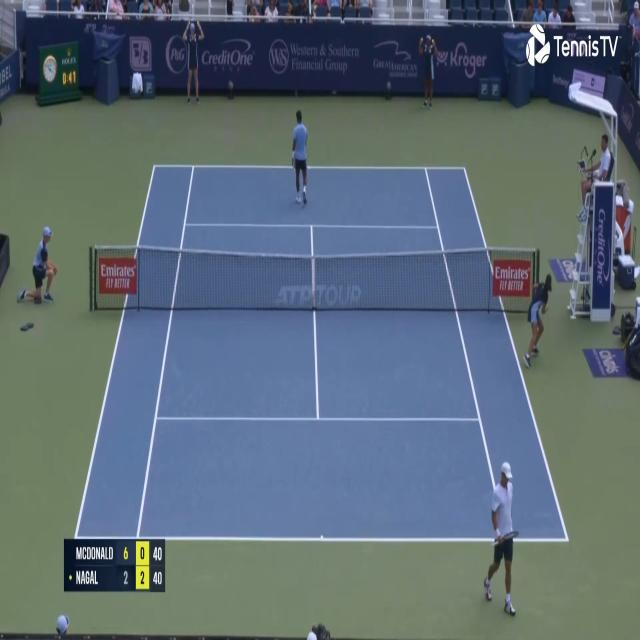tennis-player: (482, 458, 520, 619), (290, 108, 310, 206)
